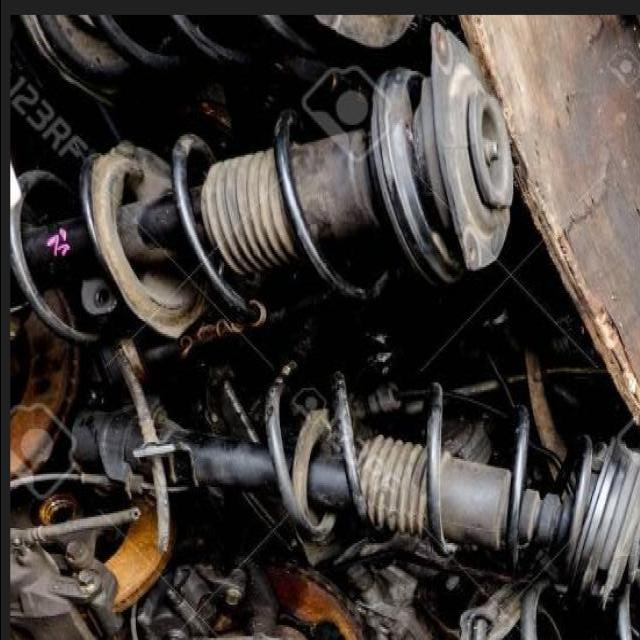shock absorber: (9, 24, 512, 351), (175, 356, 640, 604)
